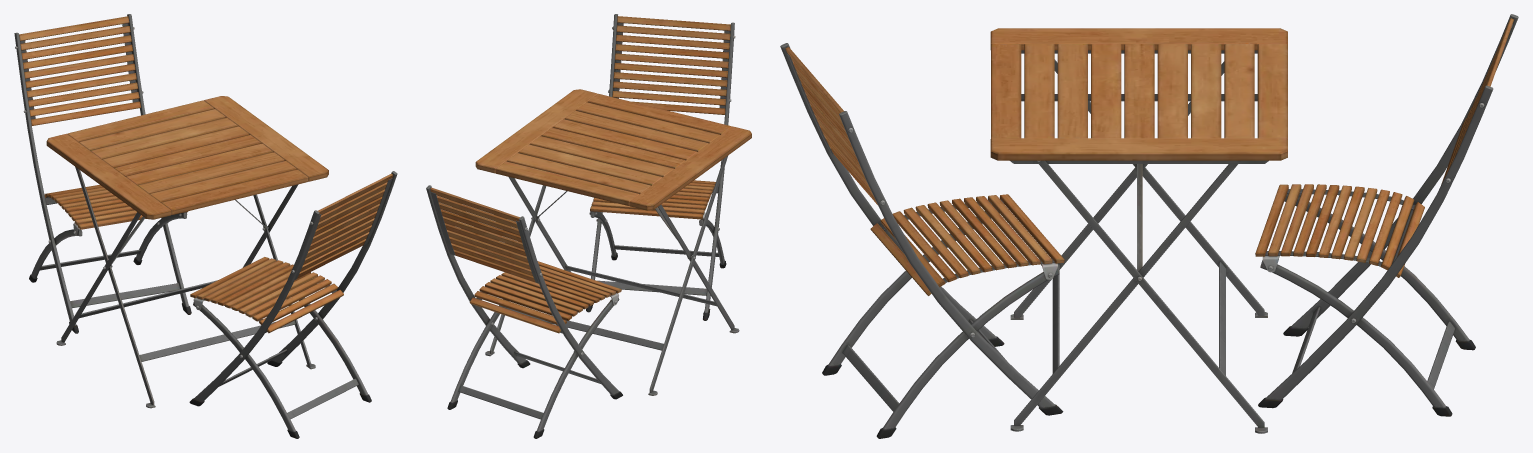
Rendered from outdoor_table_chair_set_01_1k.gltf.
3 views of the same model, side by side, from view 1: azimuth 30°, elevation 25°; view 2: azimuth 150°, elevation 25°; view 3: azimuth 270°, elevation 25° (orthographic). The views are drawn at different scales.
Visible parts, largest first — view 1: outdoor_table_chair_set_01_table, outdoor_table_chair_set_01_chair_02, outdoor_table_chair_set_01_chair_01; view 2: outdoor_table_chair_set_01_table, outdoor_table_chair_set_01_chair_02, outdoor_table_chair_set_01_chair_01; view 3: outdoor_table_chair_set_01_table, outdoor_table_chair_set_01_chair_01, outdoor_table_chair_set_01_chair_02.
Part boxes in pixels (x1=…): outdoor_table_chair_set_01_table: x1=46, y1=96, x2=328, y2=408; outdoor_table_chair_set_01_chair_02: x1=14, y1=14, x2=191, y2=333; outdoor_table_chair_set_01_chair_01: x1=189, y1=171, x2=397, y2=438; outdoor_table_chair_set_01_table: x1=475, y1=89, x2=751, y2=395; outdoor_table_chair_set_01_chair_02: x1=426, y1=185, x2=622, y2=438; outdoor_table_chair_set_01_chair_01: x1=586, y1=14, x2=735, y2=320; outdoor_table_chair_set_01_table: x1=990, y1=28, x2=1287, y2=433; outdoor_table_chair_set_01_chair_01: x1=780, y1=43, x2=1064, y2=438; outdoor_table_chair_set_01_chair_02: x1=1255, y1=14, x2=1518, y2=416.
Bounding box in the file's own units: 0.7417 × 0.8586 × 1.72.
2 materials, 2 textured.
